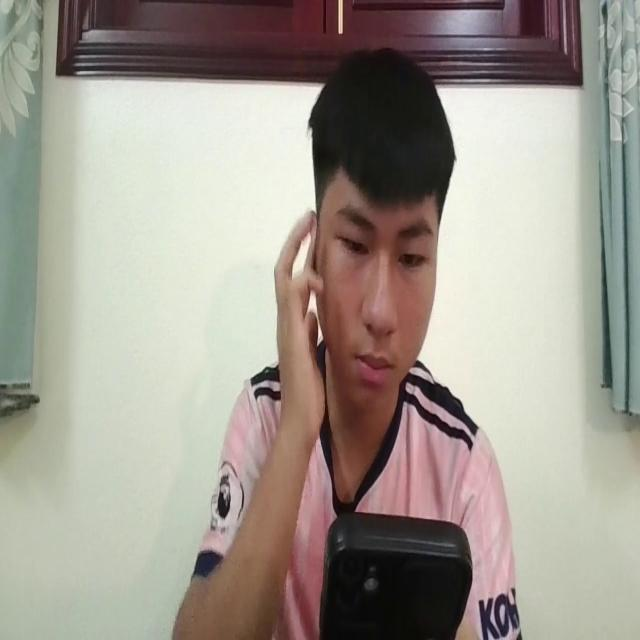student: (166, 44, 520, 640)
